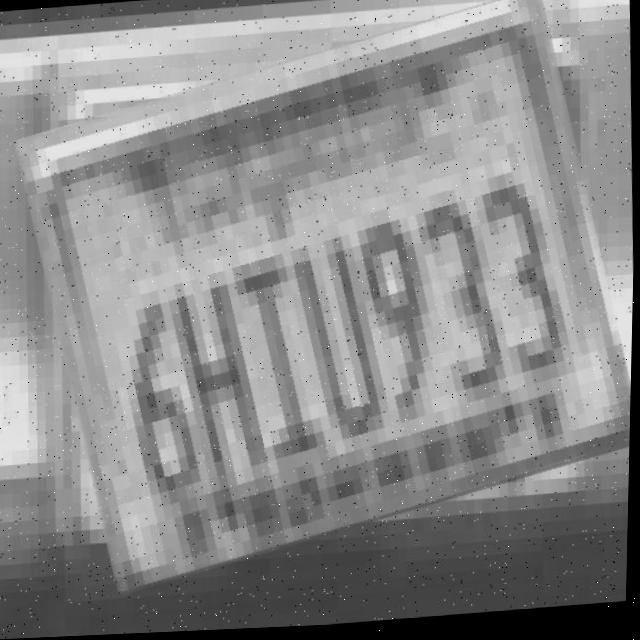LicensePlate: (25, 11, 634, 577)
